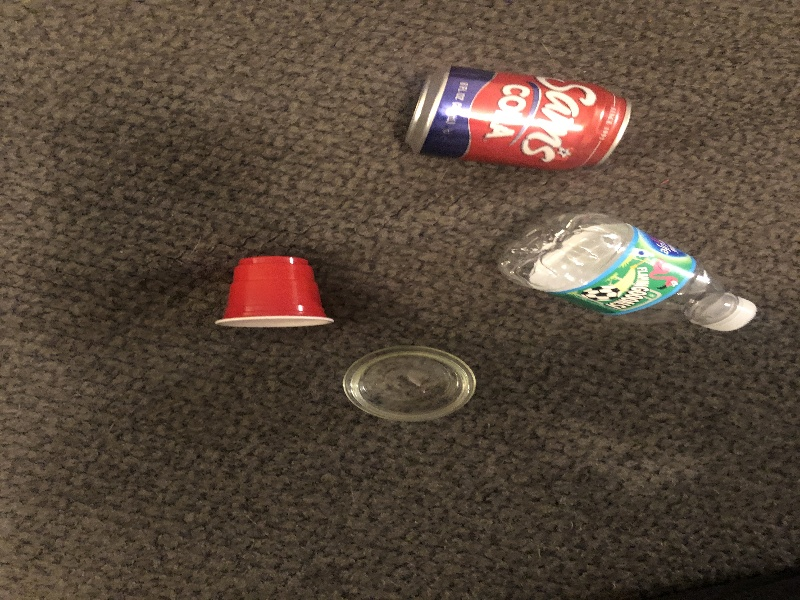glass: (338, 344, 482, 425)
metal: (395, 62, 632, 181)
plastic: (491, 202, 757, 342), (211, 247, 349, 333)
